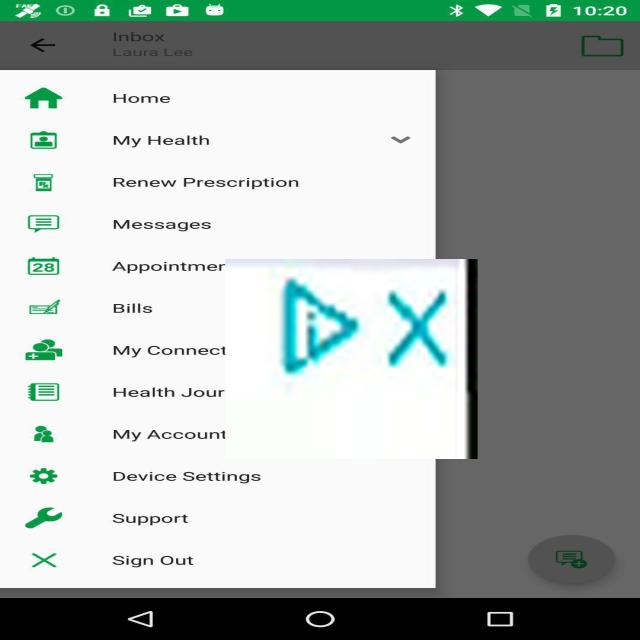sneaking: (225, 259, 478, 459)
